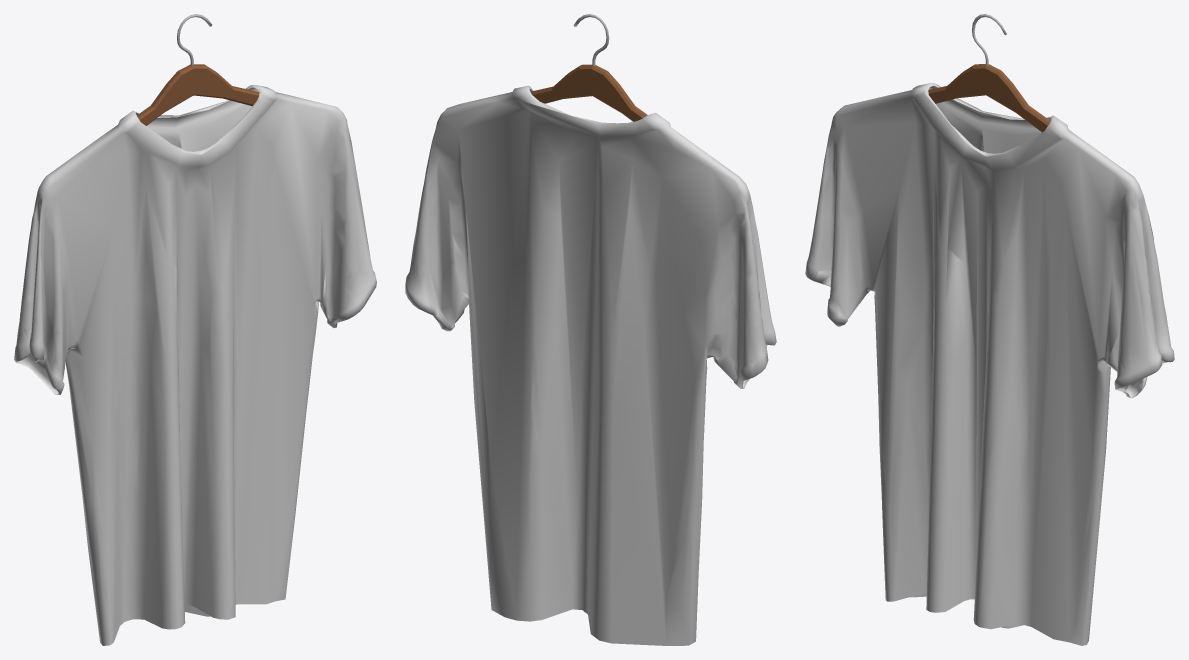
The model's file is landing-shirt.glb.
3 views of the same model, side by side, from view 1: azimuth 30°, elevation 25°; view 2: azimuth 150°, elevation 25°; view 3: azimuth 330°, elevation 25° (orthographic).
Parts seen in each view (by area): view 1: Shirt, Hanger; view 2: Shirt, Hanger; view 3: Shirt, Hanger.
Boxes of the visible parts, x1,y1,x2,y2 form: Shirt: (14,85,376,645); Hanger: (137,14,259,125); Shirt: (405,85,776,645); Hanger: (530,14,647,121); Shirt: (805,82,1174,645); Hanger: (928,14,1050,132).
Bounding box in the file's own units: 5.68 × 9.34 × 1.15.
